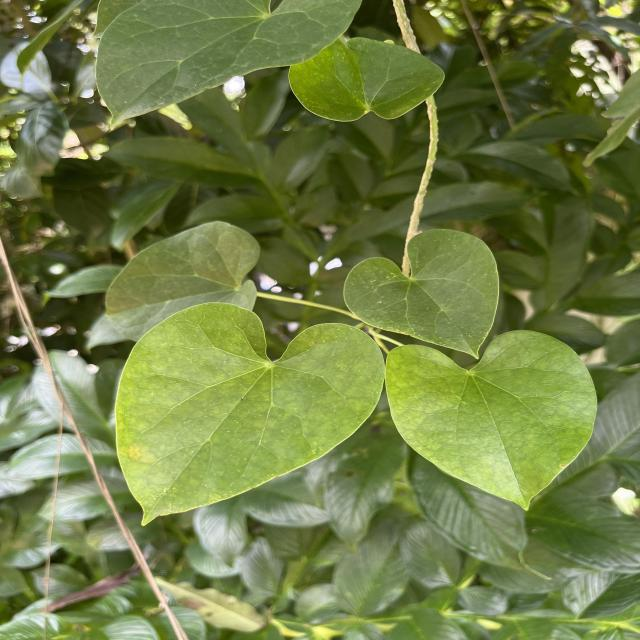Tinospora cordifolia: (111, 298, 387, 530), (383, 326, 601, 514), (341, 225, 502, 362)
